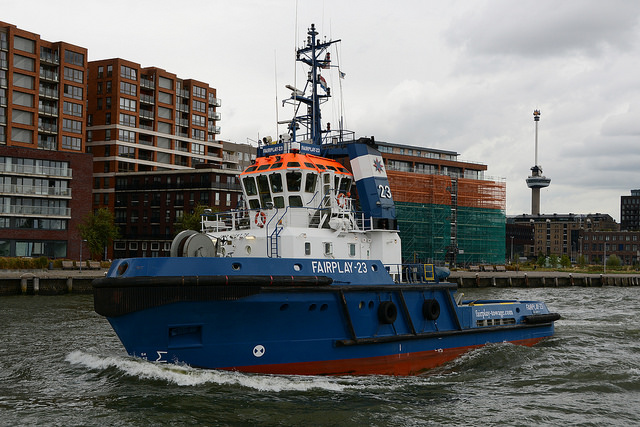tug_boat: (90, 55, 553, 379)
